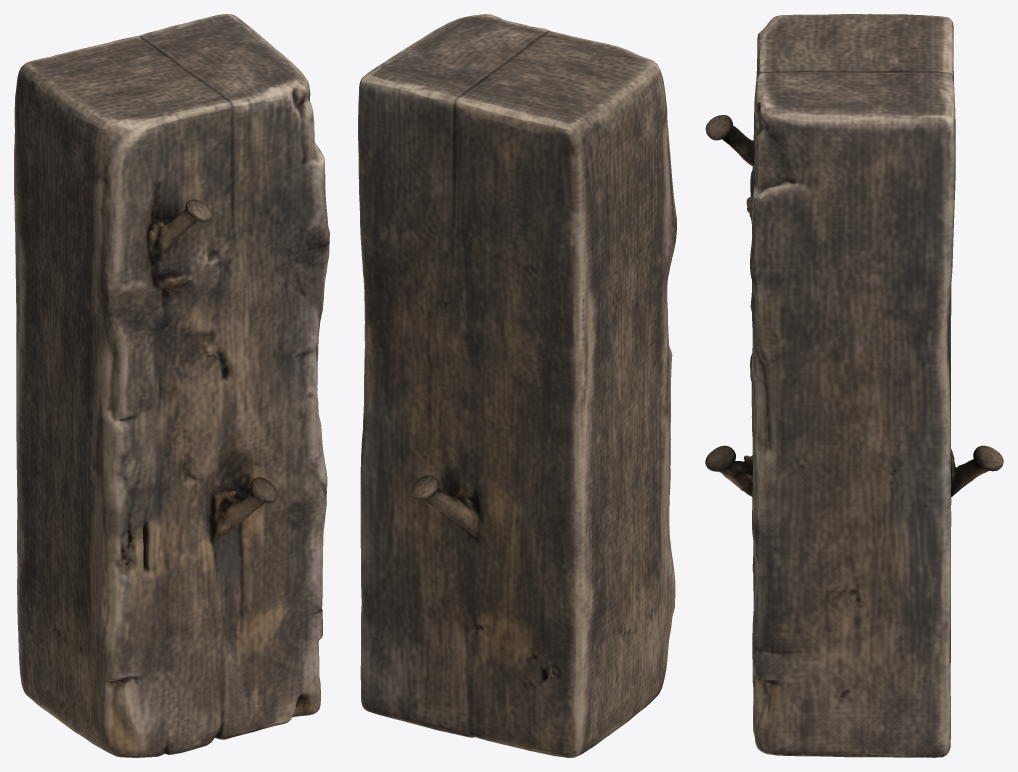
Rendered from plank.glb.
3 views of the same model, side by side, from view 1: azimuth 30°, elevation 25°; view 2: azimuth 150°, elevation 25°; view 3: azimuth 270°, elevation 25° (orthographic).
Parts seen in each view (by area): view 1: world; view 2: world; view 3: world.
Part boxes in pixels (bbox=[...]): world: bbox=[14, 14, 329, 757]; world: bbox=[358, 14, 676, 757]; world: bbox=[705, 14, 1003, 757].
Size of the model in its own units: 0.3 by 0.8175 by 0.3421.
Materials: 1 (1 with a texture image).
